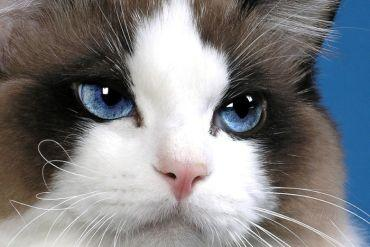ragdoll: (15, 1, 310, 247)
